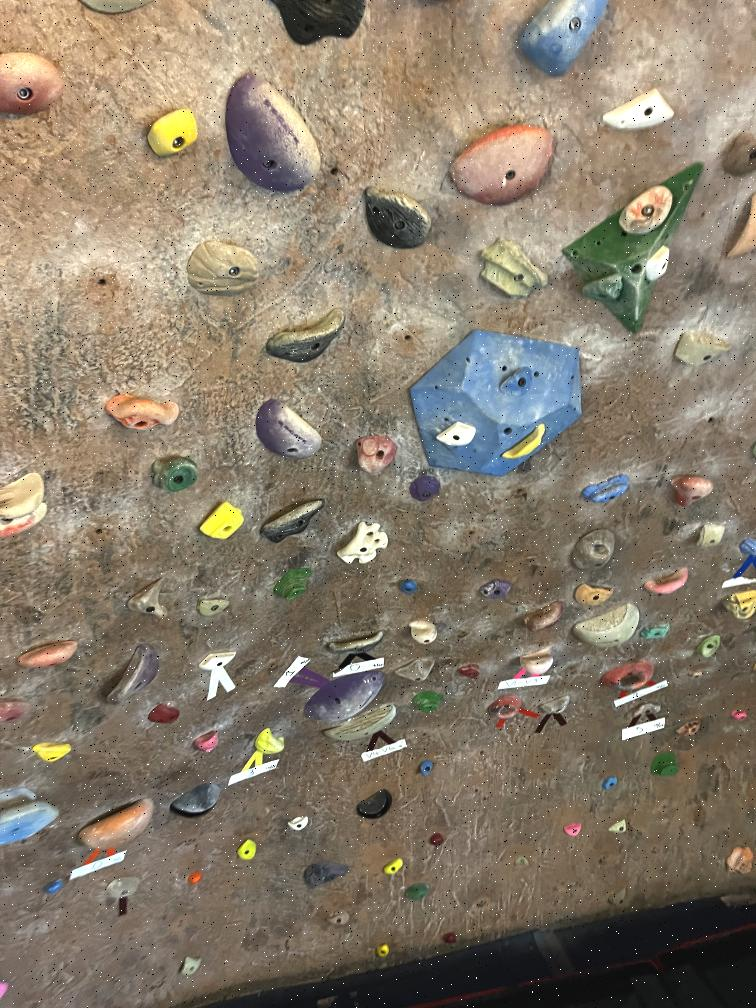Crimp: (477, 238, 549, 298), (597, 88, 676, 132), (322, 703, 398, 742), (723, 190, 756, 267), (199, 495, 244, 549), (721, 128, 756, 180), (583, 476, 636, 508), (501, 360, 538, 398), (434, 423, 480, 449), (576, 583, 616, 607), (199, 595, 236, 619), (648, 248, 674, 282), (539, 693, 576, 716), (198, 649, 238, 669), (644, 623, 673, 641)
Edges: (575, 604, 640, 650)
Foothold: (168, 779, 222, 820), (304, 861, 353, 893), (355, 785, 393, 823), (272, 568, 313, 598), (723, 584, 756, 621), (648, 750, 684, 781), (408, 475, 445, 505), (724, 846, 756, 877), (0, 695, 32, 723), (475, 580, 515, 602), (147, 701, 182, 726), (176, 951, 204, 980), (190, 730, 222, 754), (414, 692, 445, 715), (236, 836, 258, 865), (381, 854, 405, 879), (326, 908, 353, 930), (402, 883, 430, 903), (286, 813, 312, 834), (455, 661, 482, 681), (42, 874, 64, 897), (674, 720, 700, 739), (396, 577, 420, 597), (607, 819, 628, 837), (562, 820, 583, 838), (599, 773, 620, 790), (439, 929, 456, 949), (186, 868, 203, 886), (730, 709, 749, 724), (426, 833, 446, 847), (512, 854, 532, 868), (417, 760, 434, 776), (375, 943, 390, 958)
Hand-holds: (518, 0, 615, 71), (0, 469, 50, 542), (129, 578, 172, 621)
Jug: (220, 64, 324, 198), (448, 120, 562, 208), (252, 387, 329, 464), (75, 794, 160, 856), (300, 666, 390, 722), (186, 236, 261, 302), (268, 0, 366, 49), (136, 104, 208, 170), (263, 306, 347, 362), (366, 188, 436, 251), (0, 778, 63, 844), (101, 641, 160, 707), (259, 495, 330, 547), (99, 392, 180, 435), (15, 632, 79, 676), (497, 418, 551, 463), (350, 434, 399, 478), (669, 464, 716, 507), (519, 599, 564, 636), (642, 565, 690, 598), (326, 630, 384, 656), (580, 276, 628, 306), (516, 645, 558, 676), (29, 743, 75, 766), (255, 731, 289, 758), (625, 701, 668, 721)
Pinch: (667, 325, 731, 374), (335, 520, 389, 570), (150, 455, 202, 494), (696, 631, 726, 659), (699, 522, 724, 549)
Pocket: (568, 526, 618, 574), (599, 661, 656, 693), (484, 692, 524, 724)
Sloper: (0, 49, 64, 111), (620, 185, 674, 233), (395, 654, 438, 684), (408, 620, 440, 648), (106, 879, 141, 899)
